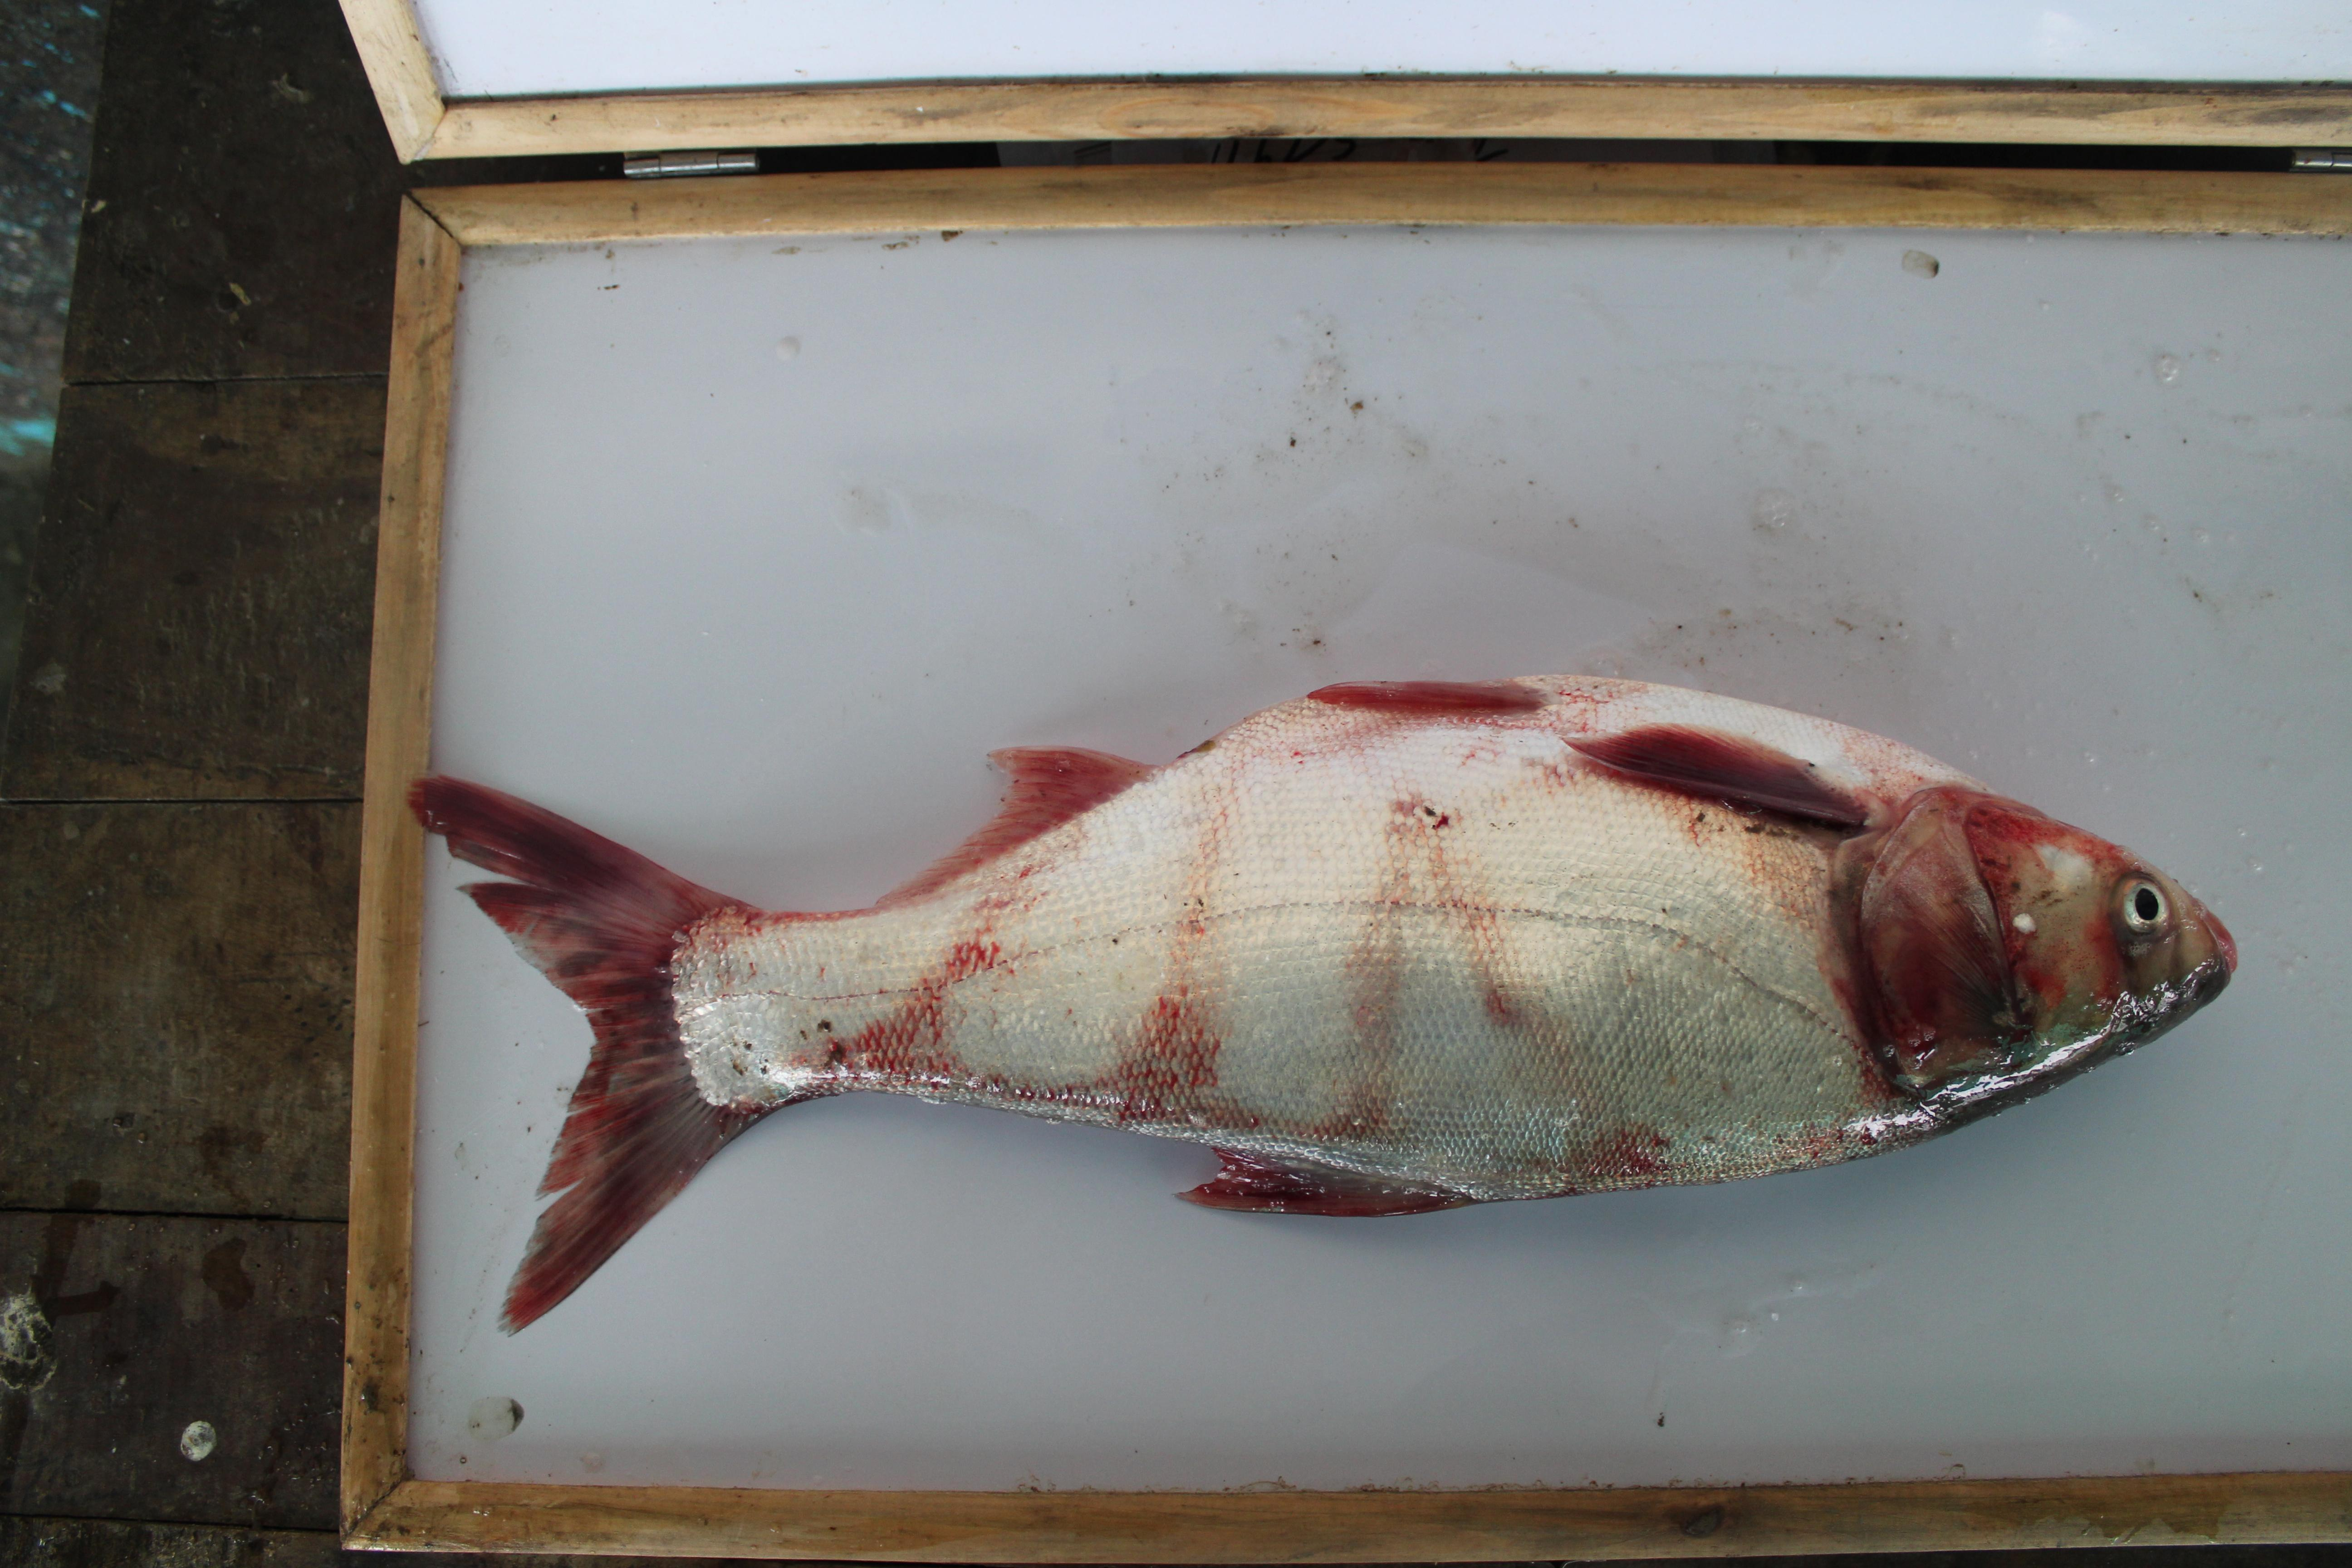Silver Carp: (406, 695, 2224, 1330)
